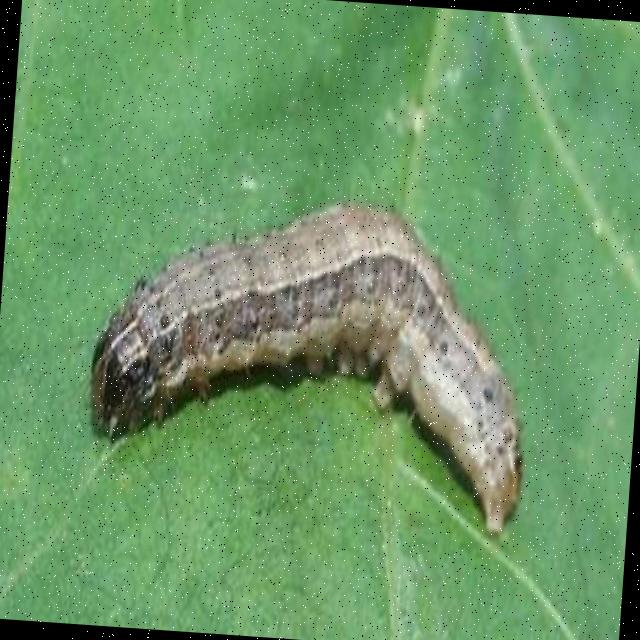worm: (79, 182, 543, 540)
